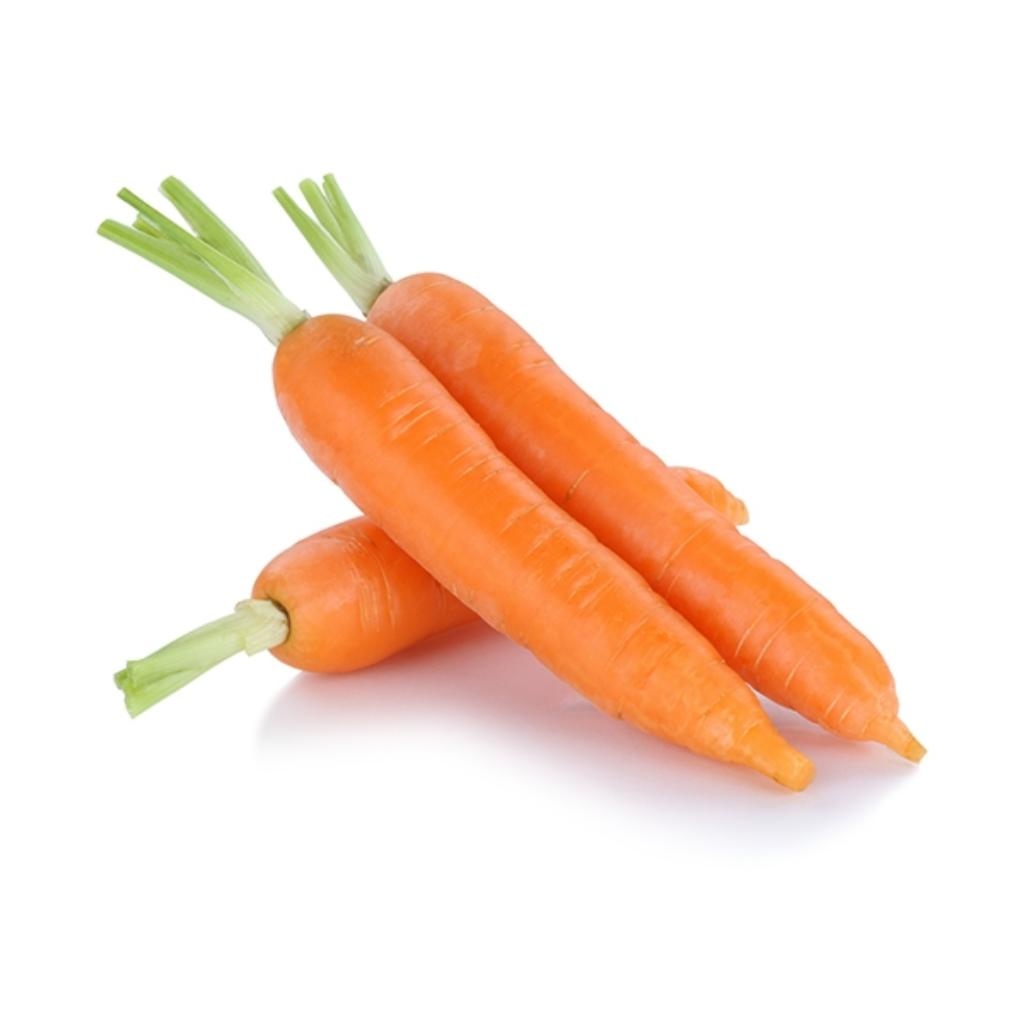carrot: (103, 189, 811, 787), (273, 174, 922, 758), (113, 515, 475, 713)
